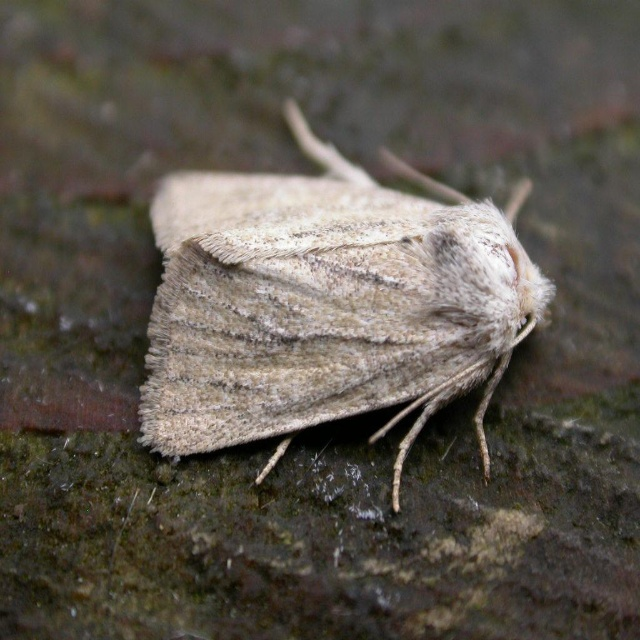Moths and butterflies: (135, 97, 558, 518)
